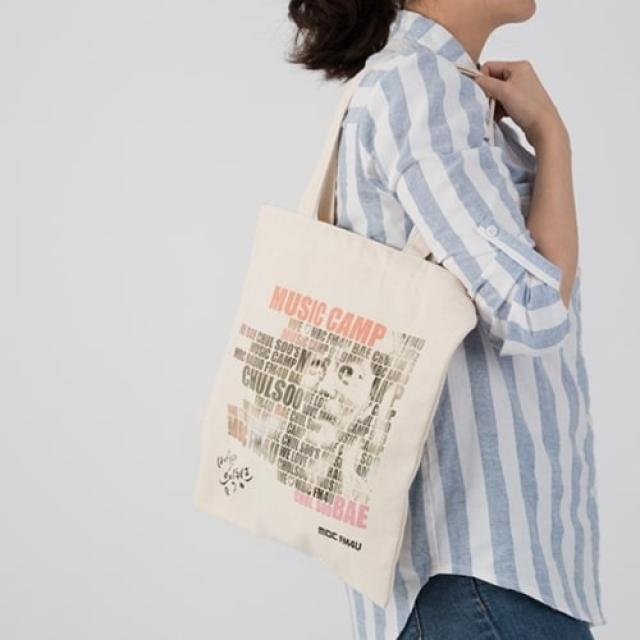ecobag: (160, 9, 499, 586)
